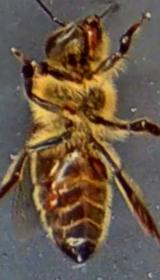varroa_mite: (38, 182, 74, 223), (79, 154, 116, 182)
